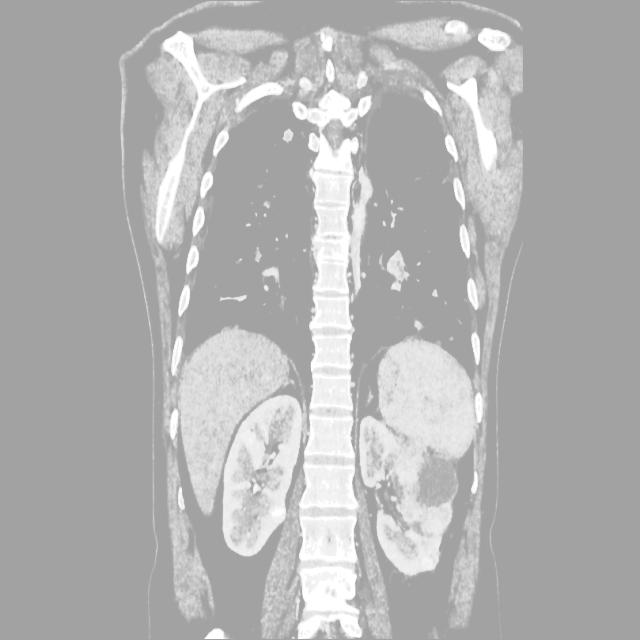TUMOR: (162, 334, 504, 525)
